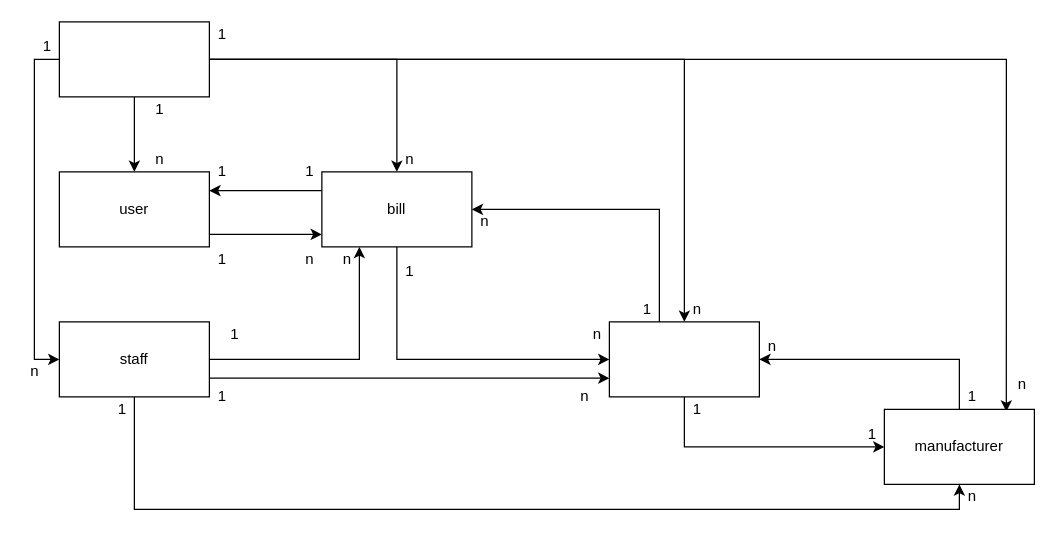
Some shapes in this 1056 by 541 pixel diagram are drawn without their labels. The shapes that lost their labels are listed below. From the top down, each one's centre as x and y in pixels, then its label:
(133,59): admin
(683,359): product
